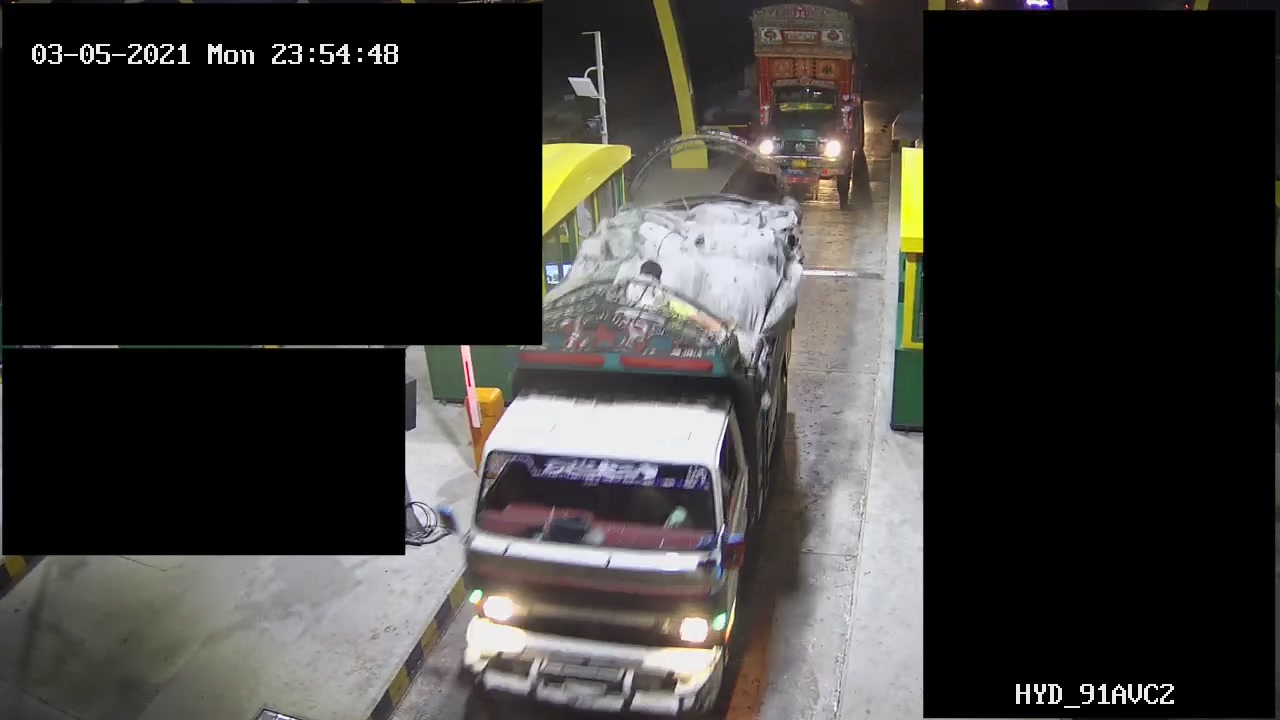F5: (458, 190, 811, 707)
